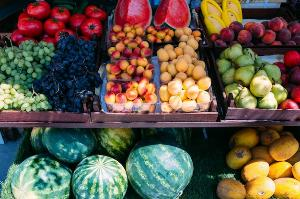apricot: (160, 34, 208, 112)
grape: (40, 32, 110, 114), (0, 38, 52, 110)
melon: (214, 120, 299, 199)
peach: (106, 21, 158, 115), (216, 13, 300, 52)
pear: (219, 48, 287, 112)
tomato: (0, 2, 104, 40)
watermelon: (11, 122, 202, 199), (108, 0, 194, 32)
